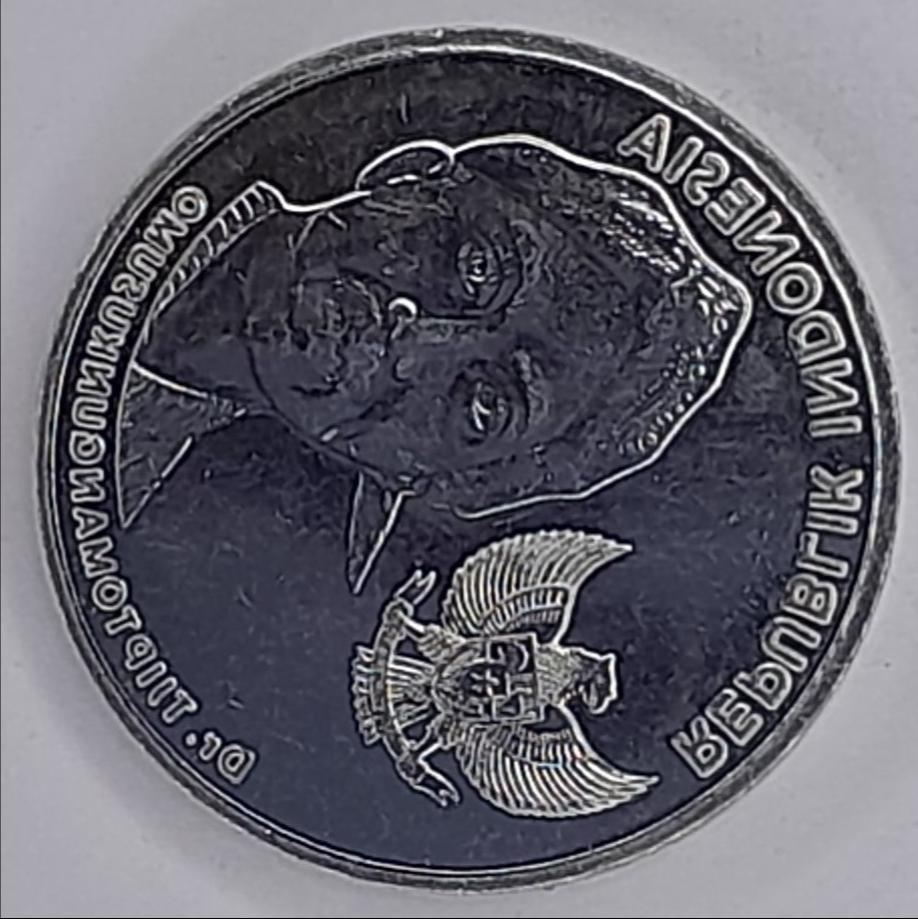coin_200_e2016: (0, 16, 918, 919)
